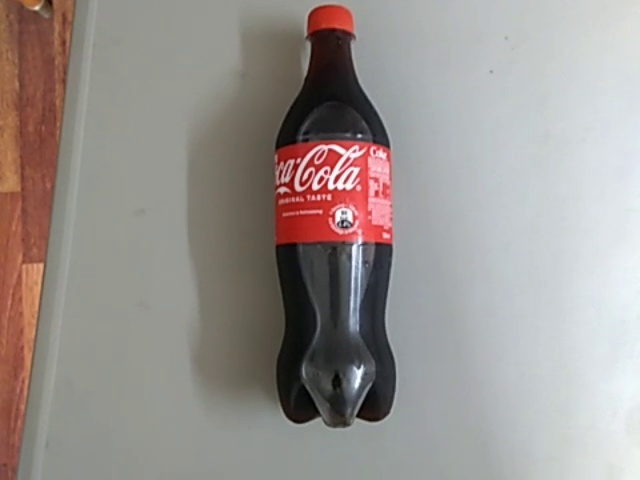Cocacola: (265, 4, 436, 440)
